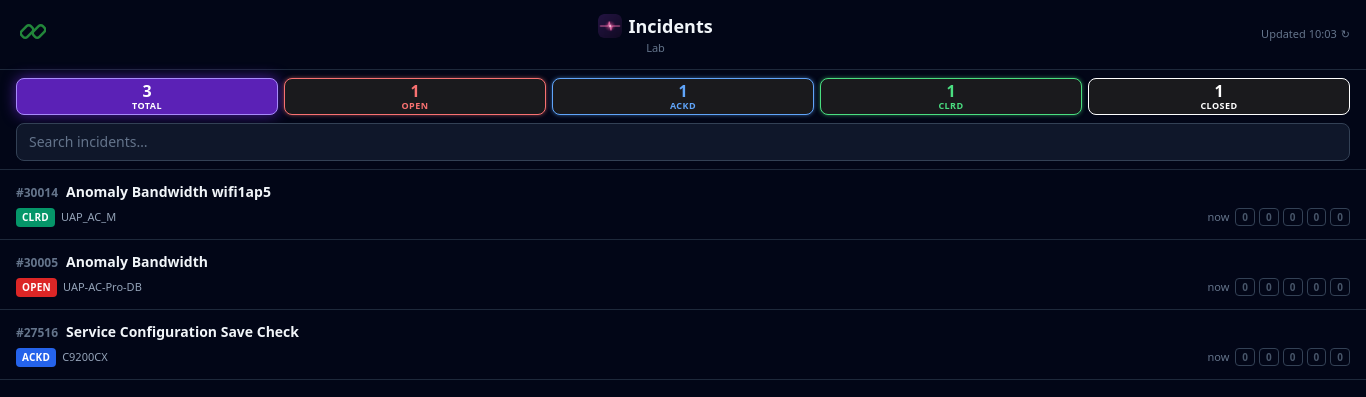
Test: IncidentListScreen › searches within the selected pill and does not escape it
This screenshot has width=1366, height=397.
Click the tab "1 OPEN": (415, 96) [284,78,546,114]
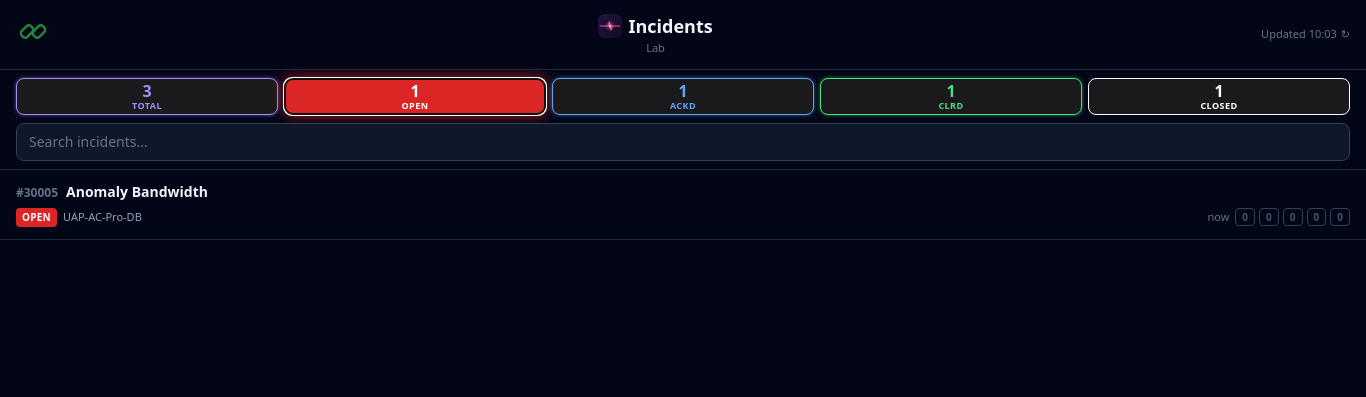
In the search field labelled "Search incidents": (683, 142) [16,122,1350,160], type "raspi"
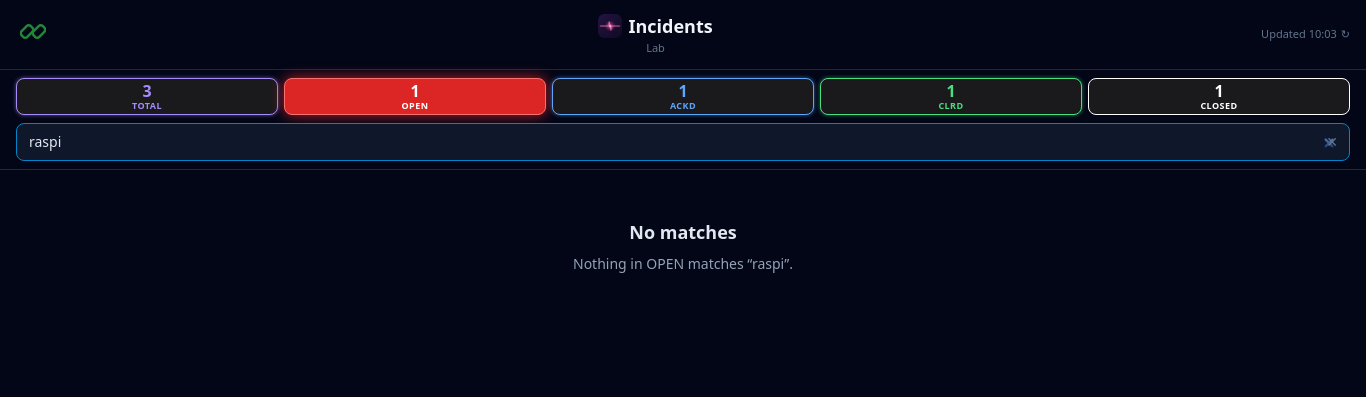
Expected: the list with test id "incident-list" is gone
Expected: the text "No matches" is shown, [629,218,737,246]
Click the tab "1 CLOSED": (1219, 96) [1088,78,1350,114]
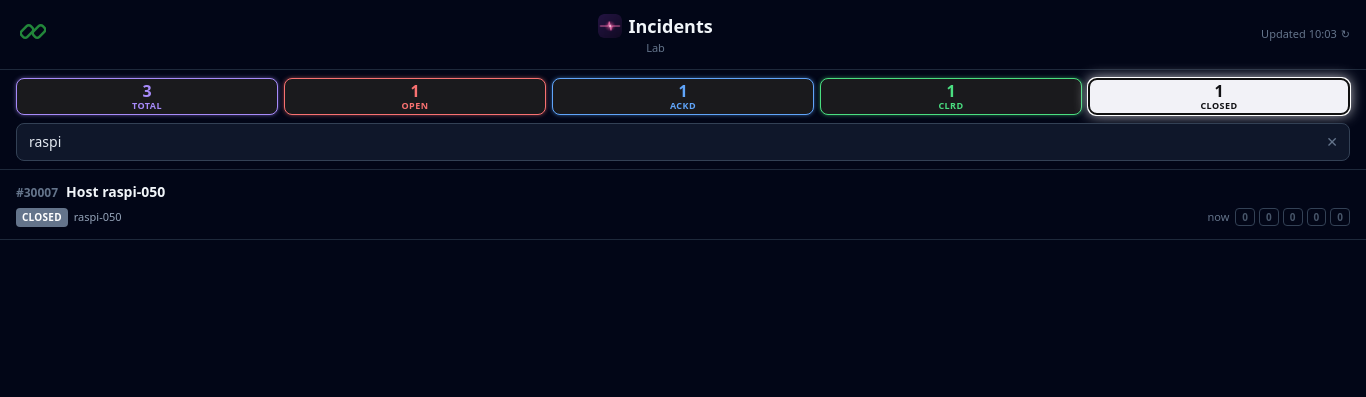
Expected: the text "#30007" is shown, [16,184,58,200]
